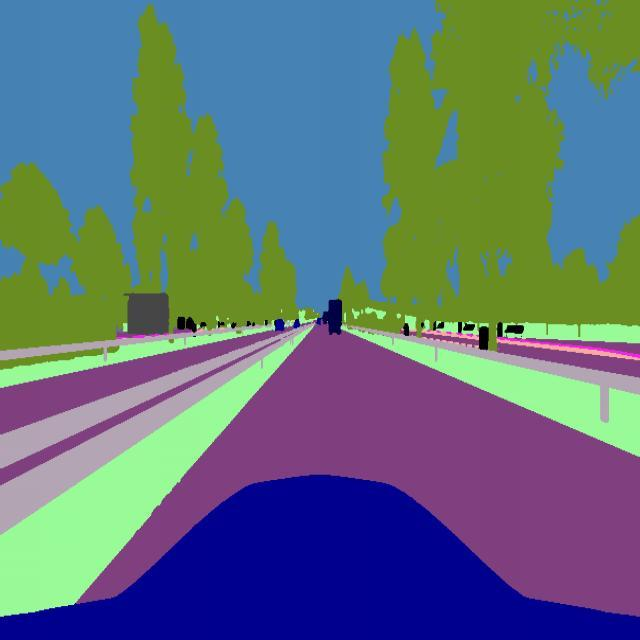safe: (325, 297, 344, 341), (274, 318, 286, 334)
